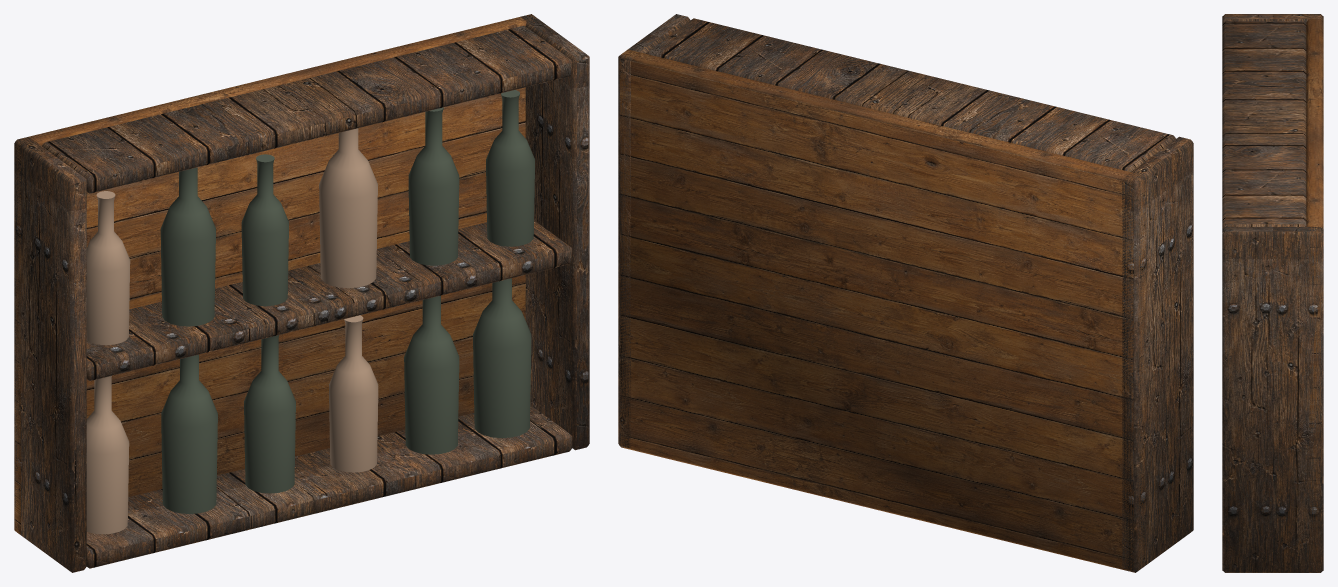
Rendered from drink-shelf-v01.glb.
The picture shows the model from 3 angles, left to right: view 1: azimuth 30°, elevation 25°; view 2: azimuth 150°, elevation 25°; view 3: azimuth 270°, elevation 25°; orthographic projection. The views are drawn at different scales.
Visible parts, largest first — view 1: drink-shelf; view 2: drink-shelf; view 3: drink-shelf.
Part boxes in pixels (x1=…): drink-shelf: x1=14, y1=14, x2=589, y2=572; drink-shelf: x1=618, y1=14, x2=1193, y2=572; drink-shelf: x1=1222, y1=14, x2=1323, y2=572.
Size of the model in its own units: 1.8 by 1.3 by 0.35.
Materials: 4 (2 with a texture image).
